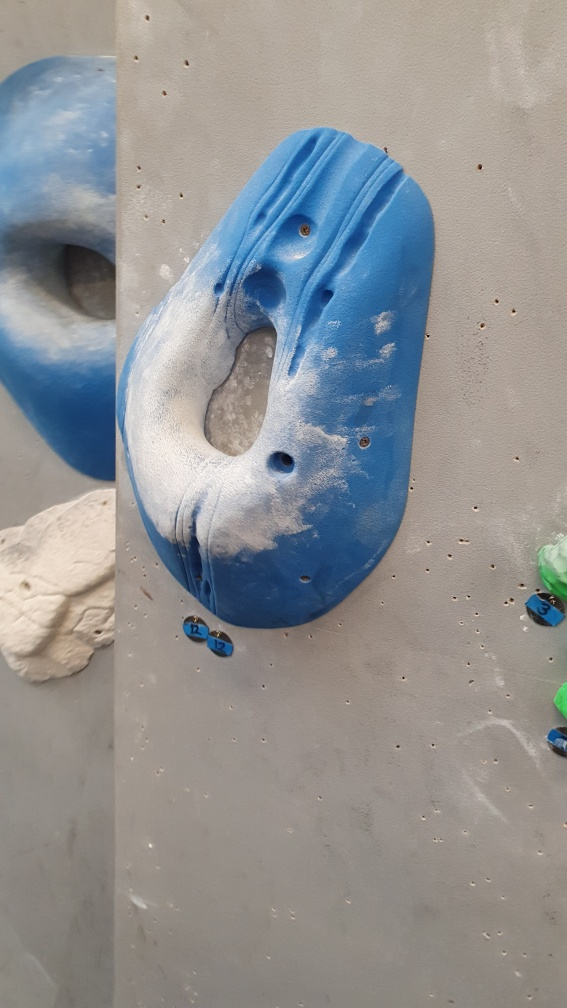Hand Start: (525, 590, 564, 631), (205, 630, 237, 659), (545, 721, 567, 763), (184, 613, 212, 645)
Pocket: (114, 123, 439, 632), (1, 53, 119, 483)
